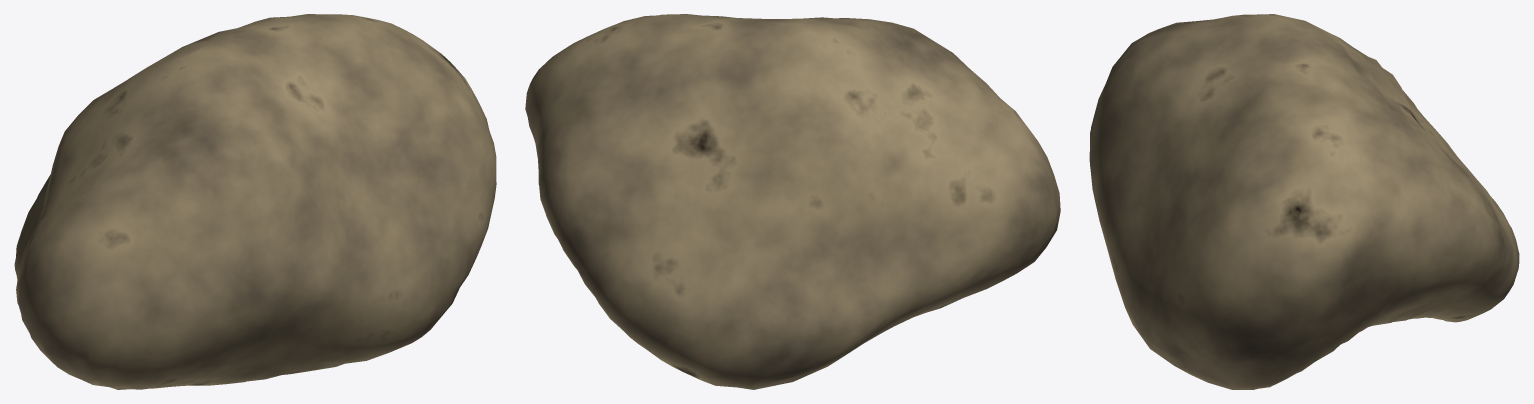
The model's file is potato.obj.
3 views of the same model, side by side, from view 1: azimuth 30°, elevation 25°; view 2: azimuth 150°, elevation 25°; view 3: azimuth 270°, elevation 25° (orthographic). The views are drawn at different scales.
Visible parts, largest first — view 1: rock; view 2: rock; view 3: rock.
Part boxes in pixels (x1,y1,x2,y2): rock: (14, 14, 496, 389); rock: (525, 14, 1060, 389); rock: (1089, 14, 1519, 389).
Size of the model in its own units: 1.44 by 0.8472 by 1.13.
Materials: 1 (1 with a texture image).
